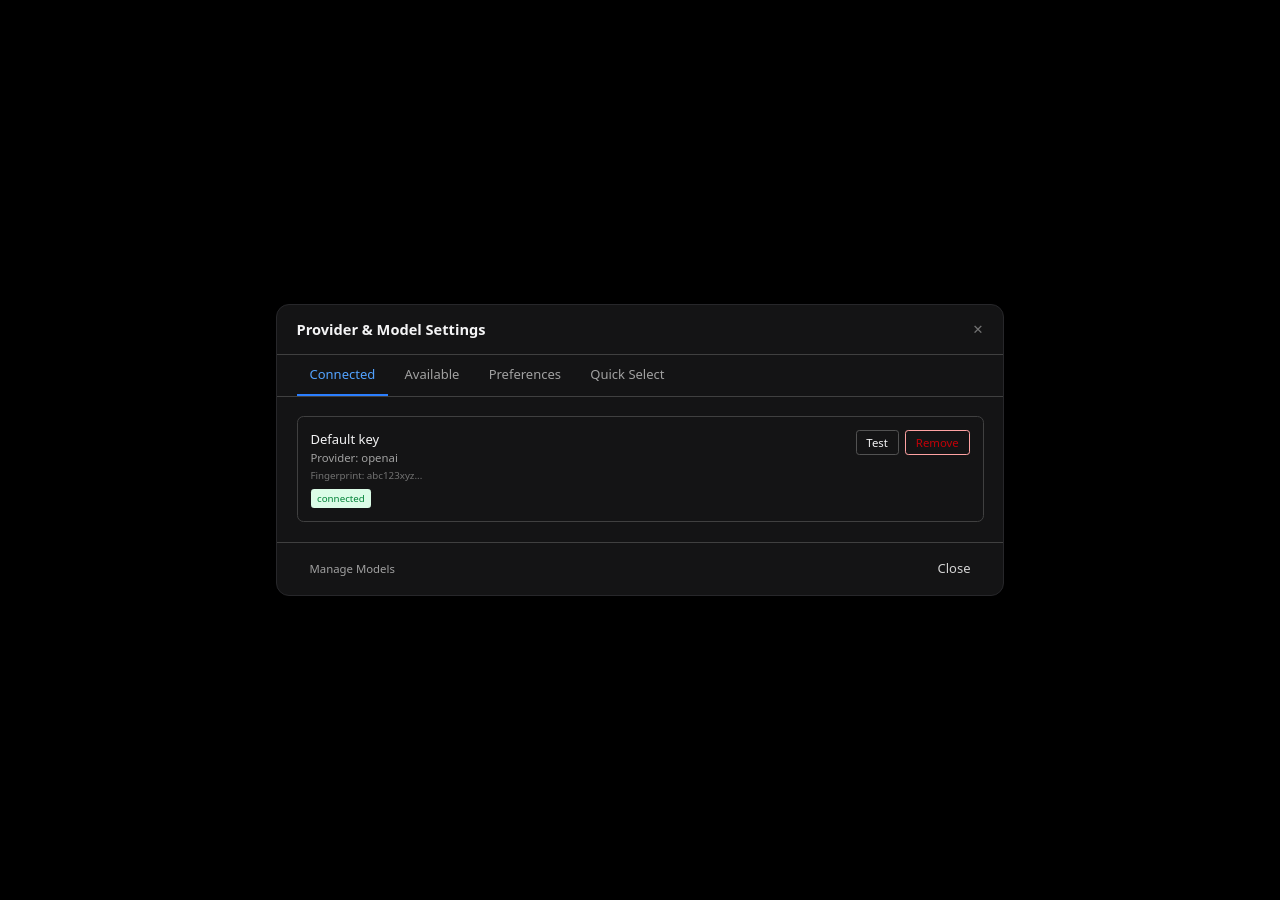
Test: ProviderDialog › Preferences tab › shows explicit selection policy copy
Click the button "Preferences": {"x": 525, "y": 375} [476,355,574,396]
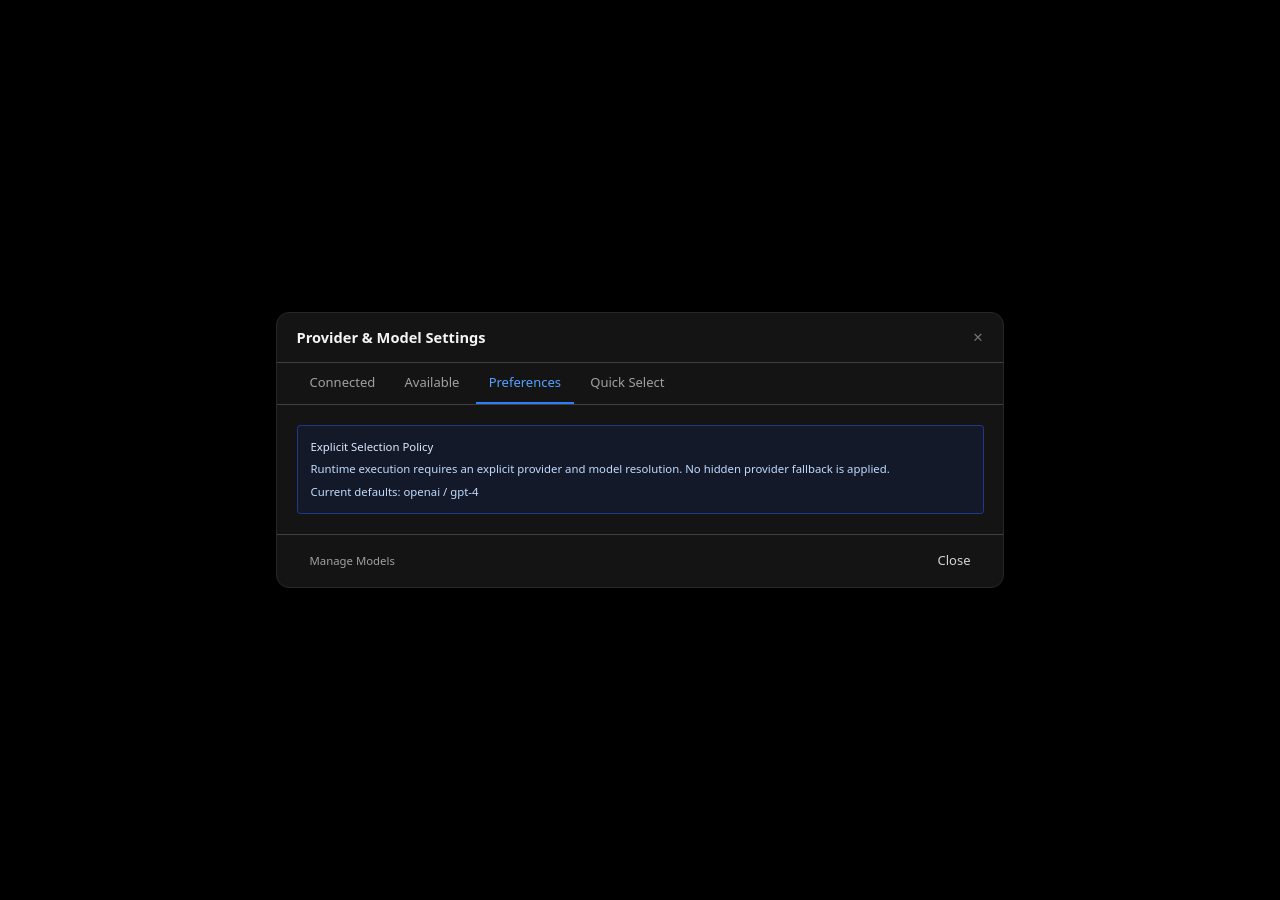
expect the text "Explicit Selection Policy" is shown: met, box [310,438,433,454]
expect the text "No hidden provider fallback is applied" is shown: met, box [310,461,890,476]
